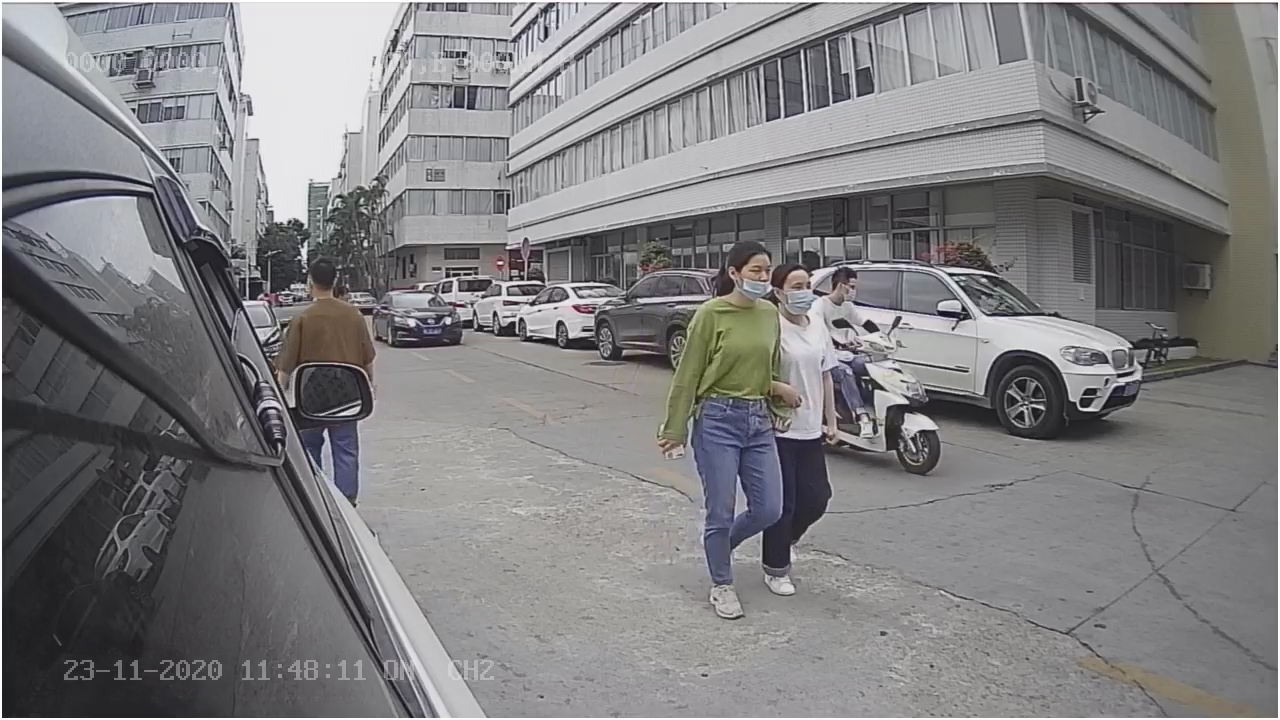person: (655, 231, 792, 624)
